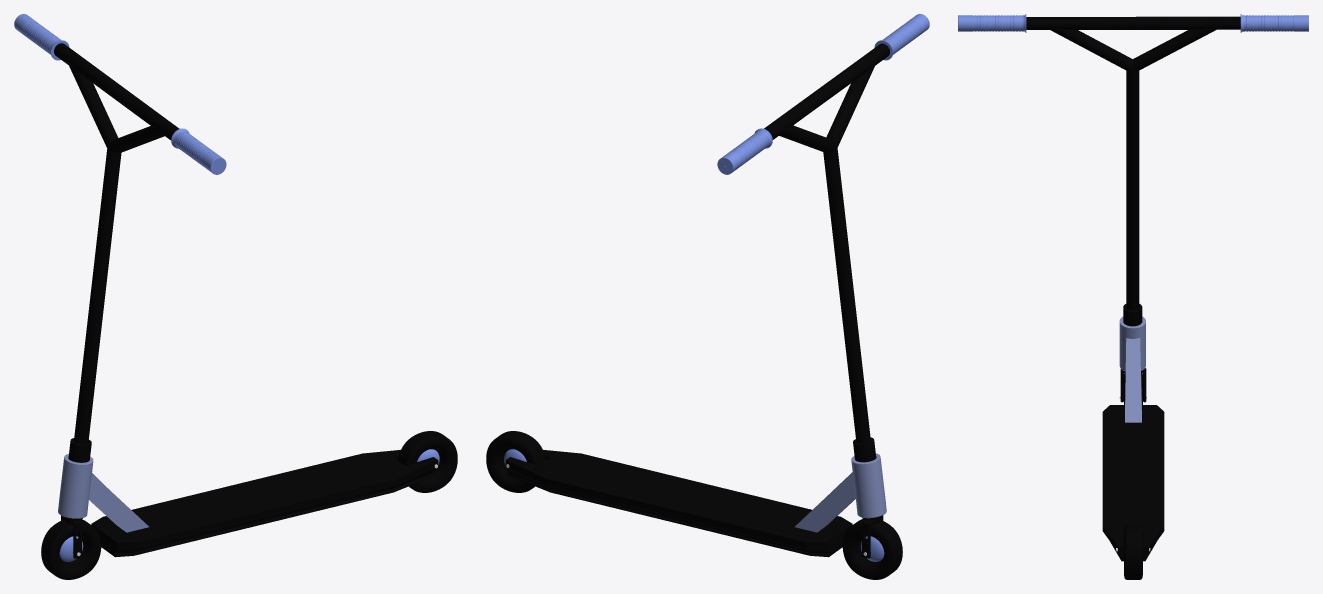
Rendered from kick-scooter.glb.
The picture shows the model from 3 angles, left to right: view 1: azimuth 30°, elevation 25°; view 2: azimuth 150°, elevation 25°; view 3: azimuth 270°, elevation 25°; orthographic projection. The views are drawn at different scales.
Bounding box in the file's own units: 2.57 × 2.88 × 2.14.
Materials: 1 (1 with a texture image).
